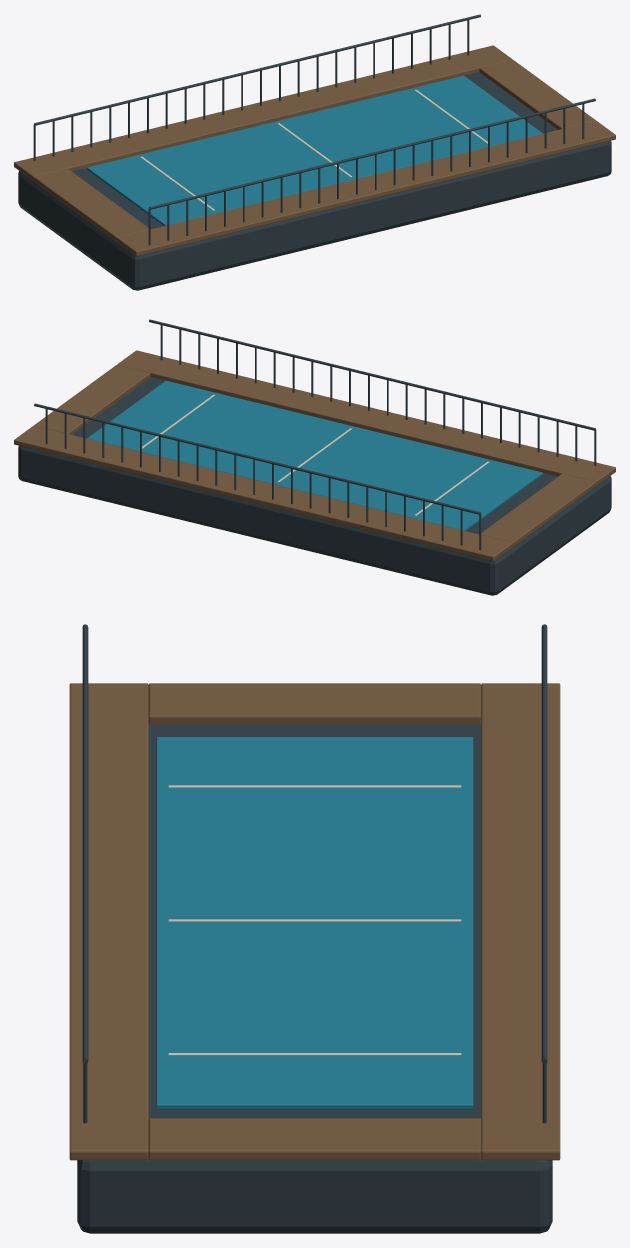
File: floating-pool.glb
The picture shows the model from 3 angles, top to bottom: view 1: azimuth 30°, elevation 25°; view 2: azimuth 150°, elevation 25°; view 3: azimuth 270°, elevation 25°; orthographic projection. The views are drawn at different scales.
Parts seen in each view (by area): view 1: DC_Mesh_DC_Steel, DC_Mesh_DC_Wood, DC_Mesh_DC_PoolWater, DC_Mesh_DC_Ivory; view 2: DC_Mesh_DC_Steel, DC_Mesh_DC_Wood, DC_Mesh_DC_PoolWater, DC_Mesh_DC_Ivory; view 3: DC_Mesh_DC_PoolWater, DC_Mesh_DC_Wood, DC_Mesh_DC_Steel, DC_Mesh_DC_Ivory.
Boxes of the visible parts, box(x1,y1,x2,y2) form: DC_Mesh_DC_Steel: box(18, 14, 611, 290); DC_Mesh_DC_Wood: box(14, 45, 615, 256); DC_Mesh_DC_PoolWater: box(87, 75, 542, 225); DC_Mesh_DC_Ivory: box(140, 89, 487, 210); DC_Mesh_DC_Steel: box(18, 319, 611, 595); DC_Mesh_DC_Wood: box(14, 350, 615, 561); DC_Mesh_DC_PoolWater: box(87, 380, 542, 530); DC_Mesh_DC_Ivory: box(142, 394, 489, 515); DC_Mesh_DC_PoolWater: box(156, 737, 473, 1109); DC_Mesh_DC_Wood: box(69, 683, 560, 1160); DC_Mesh_DC_Steel: box(77, 624, 552, 1233); DC_Mesh_DC_Ivory: box(168, 785, 461, 1055).
Size of the model in its own units: 14 by 2.27 by 6.2.
